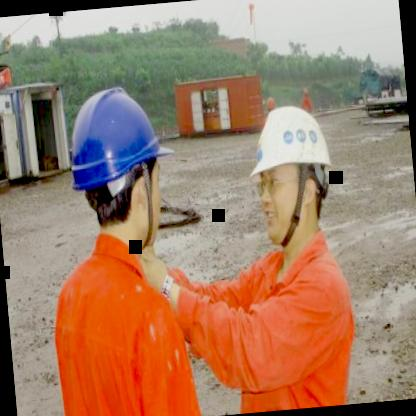helmet: (48, 64, 188, 255), (234, 84, 346, 250)
